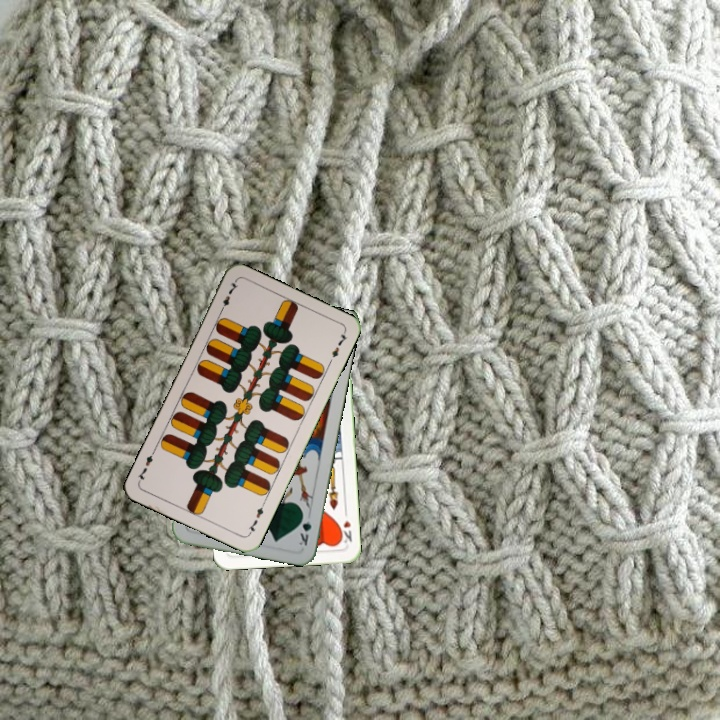E7: (216, 277, 241, 315), (244, 499, 268, 537)
GK: (294, 509, 314, 548)
HK: (335, 516, 354, 545)
